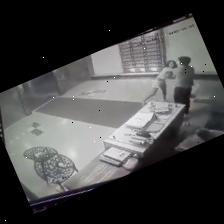person: (142, 61, 176, 105), (173, 57, 194, 114)
